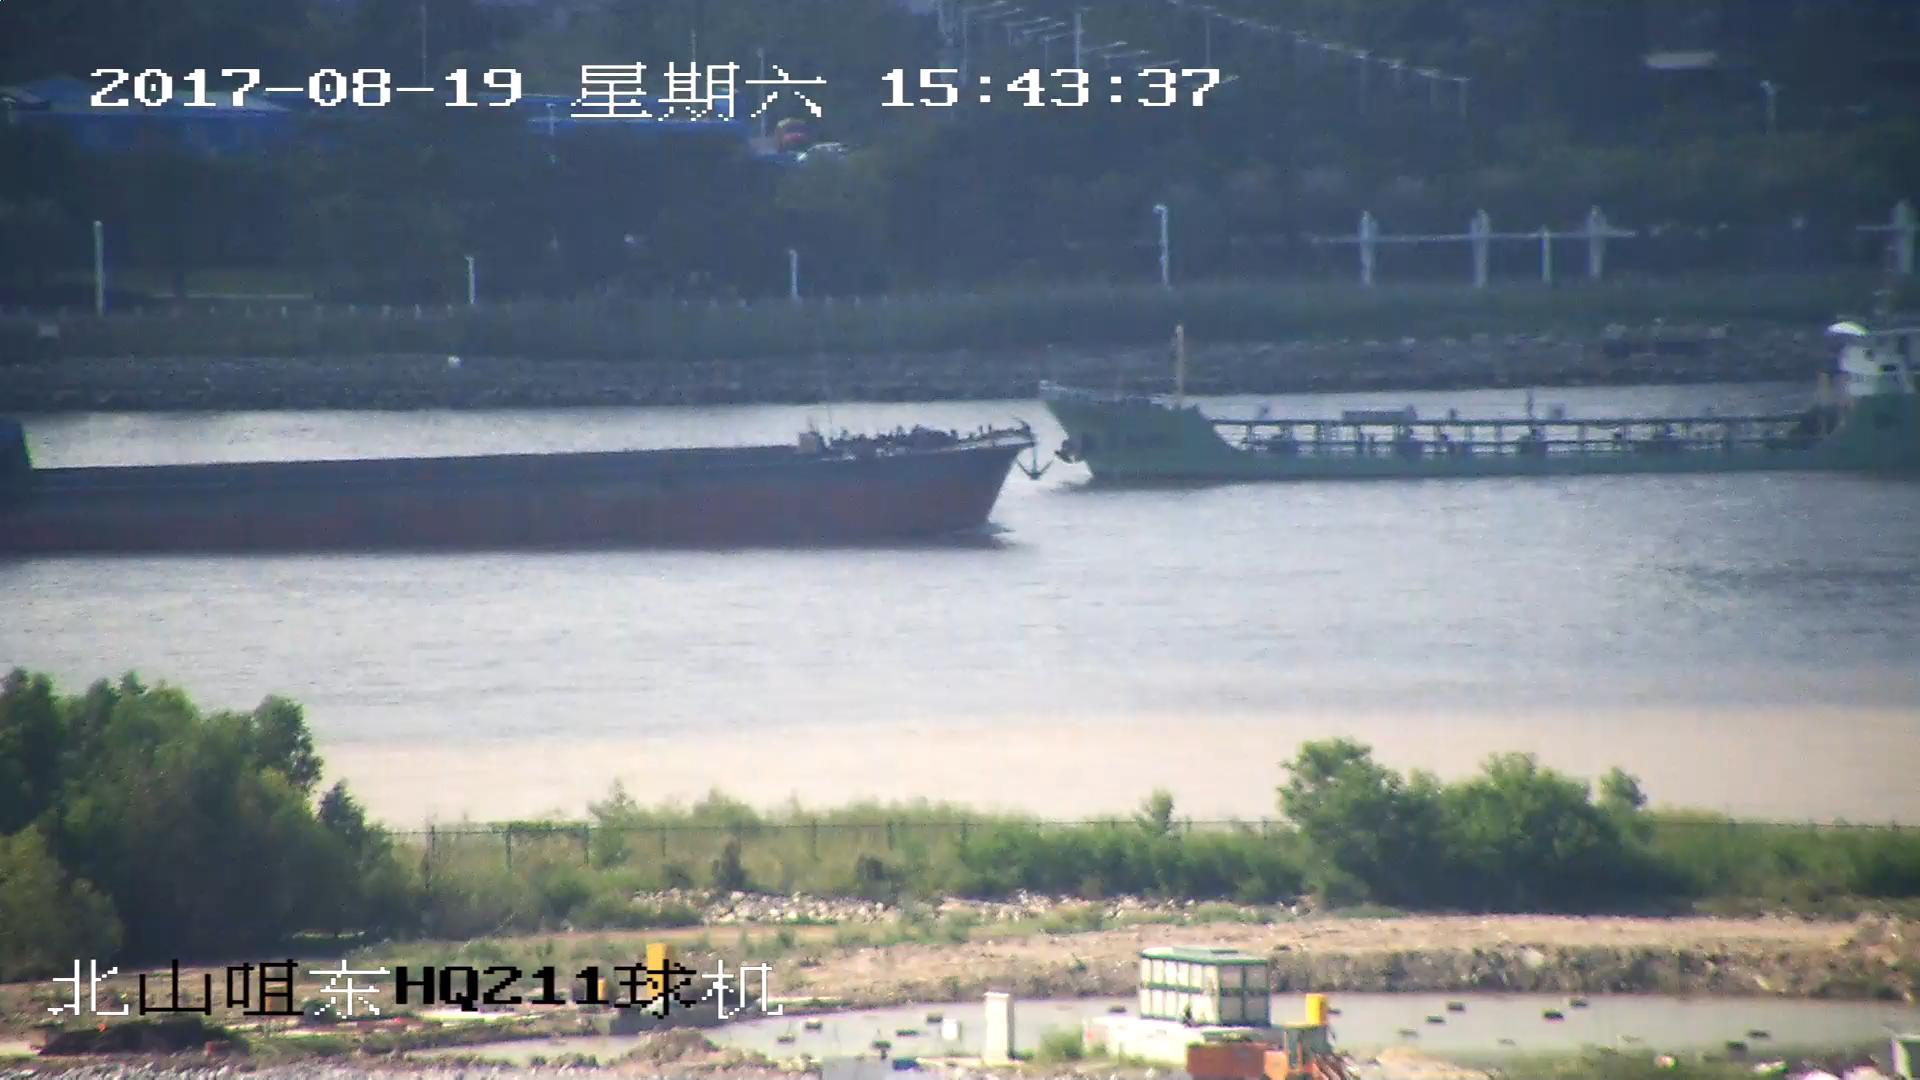Ship: (1039, 320, 1920, 483), (3, 419, 1033, 558)
